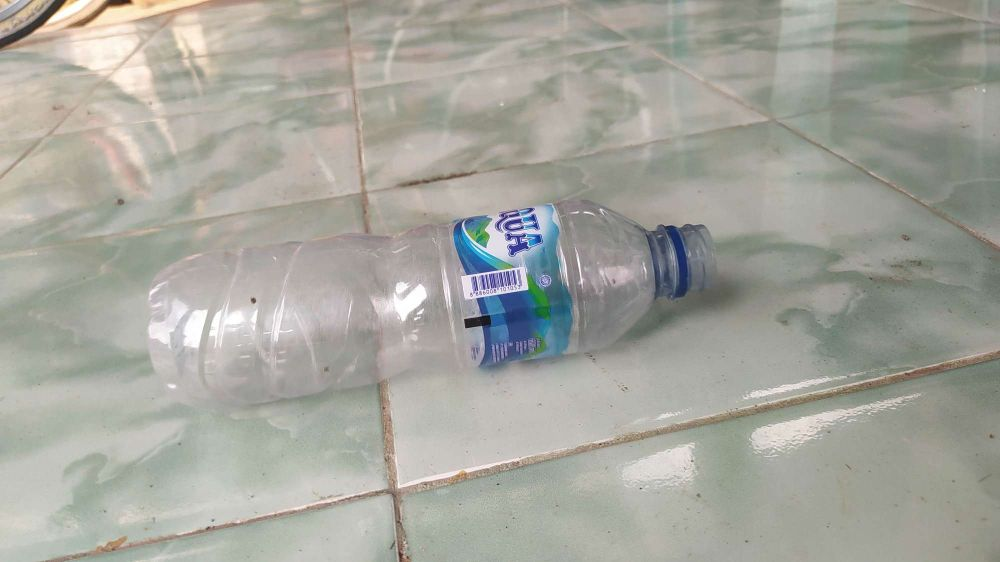botol: (123, 186, 780, 412)
